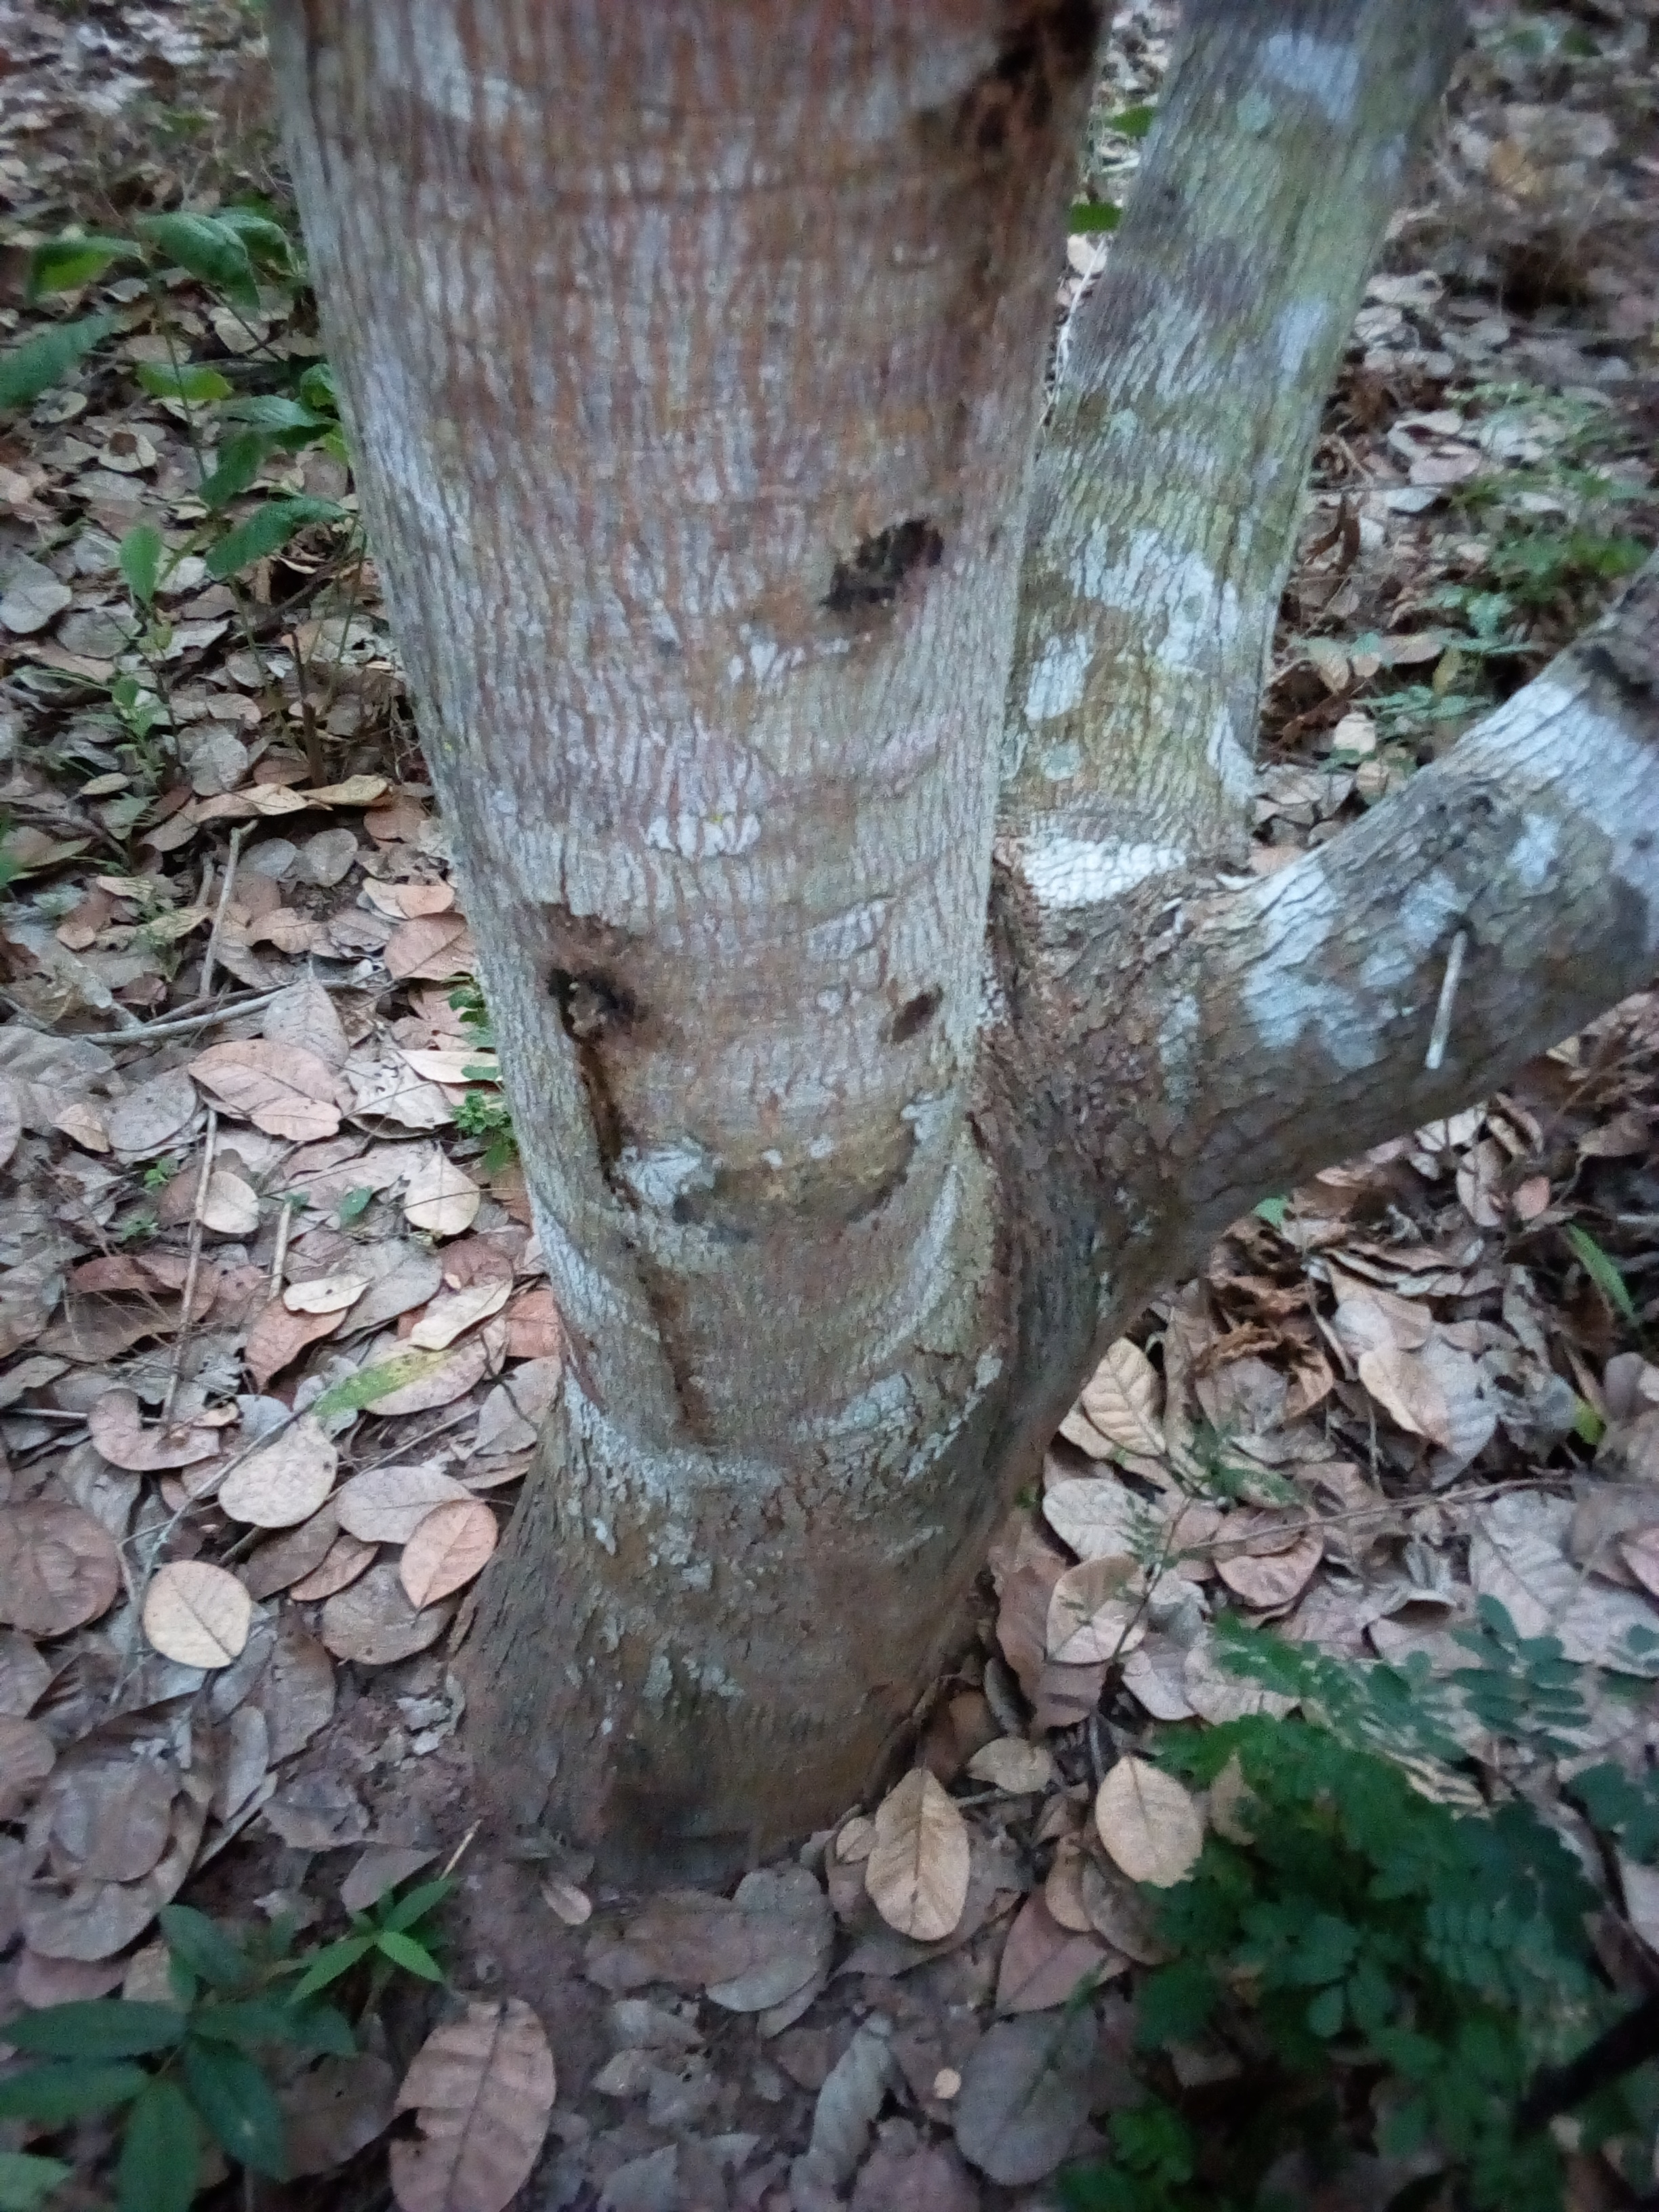Apate terebrans: (782, 475, 1033, 679)
